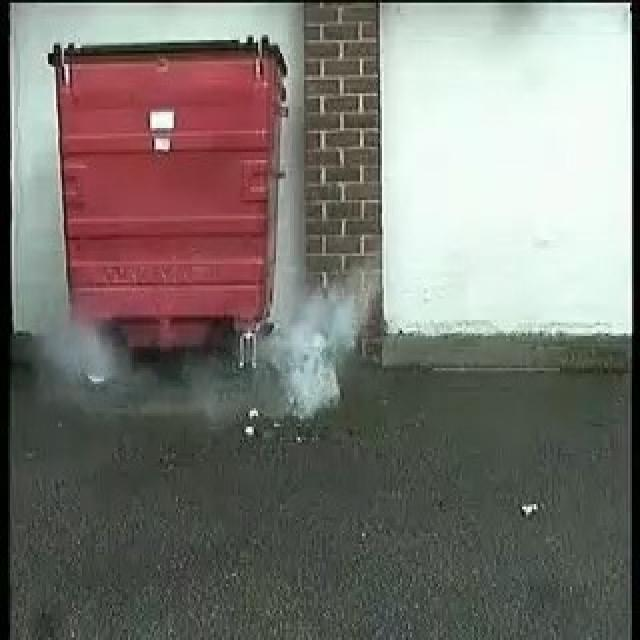smoke: (266, 282, 372, 421)
